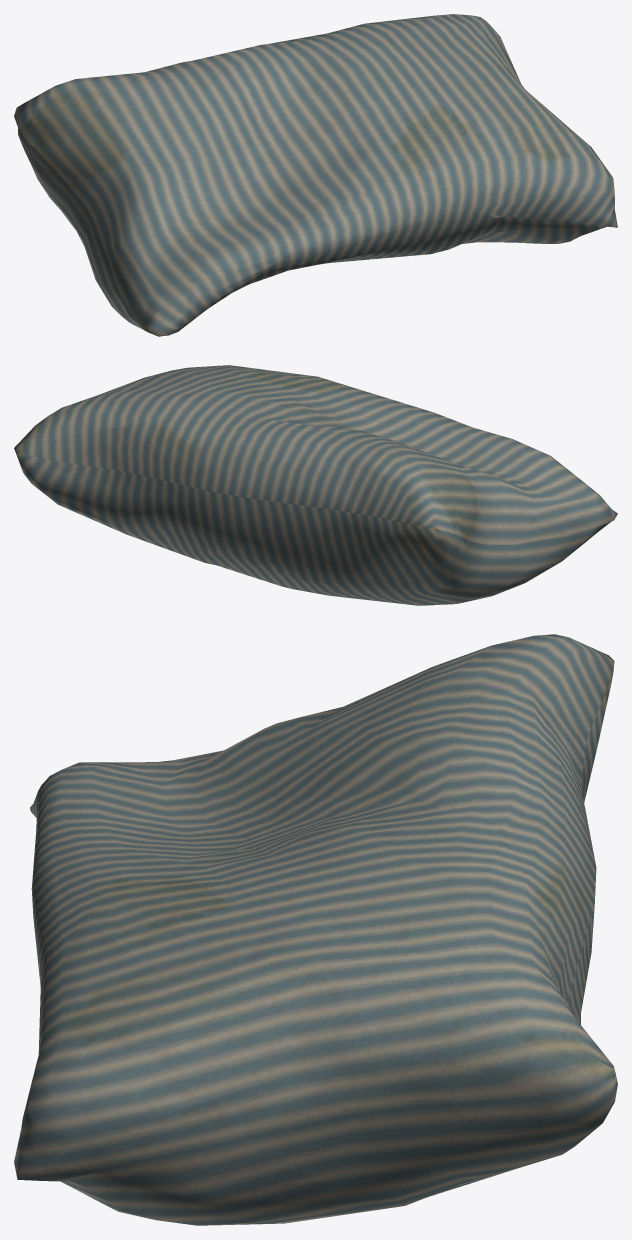
File: Pillow.FBX
3 views of the same model, one above another, from view 1: azimuth 30°, elevation 25°; view 2: azimuth 150°, elevation 25°; view 3: azimuth 270°, elevation 25° (orthographic). The views are drawn at different scales.
Visible parts, largest first — view 1: pillow; view 2: pillow; view 3: pillow.
Boxes of the visible parts, x1,y1,x2,y2 form: pillow: (14,14,617,336); pillow: (14,365,617,605); pillow: (14,634,617,1225).
Bounding box in the file's own units: 59.8 × 21.56 × 37.17.
1 material, 1 textured.
